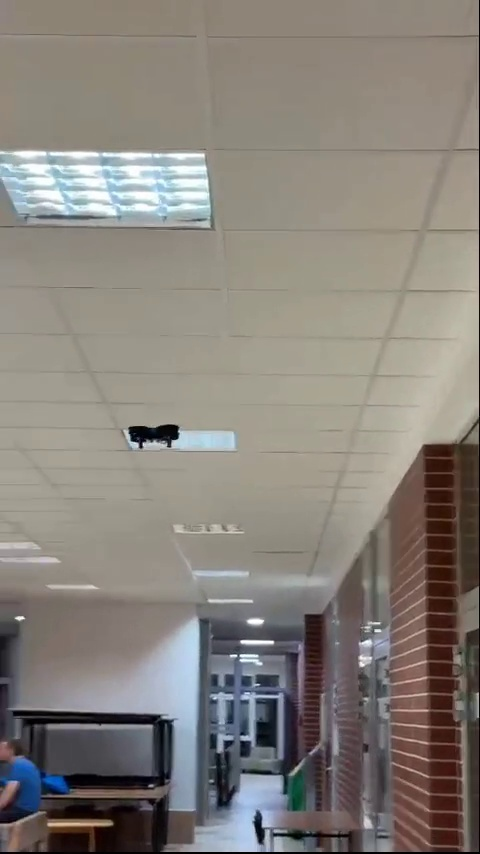drone: (125, 422, 179, 448)
